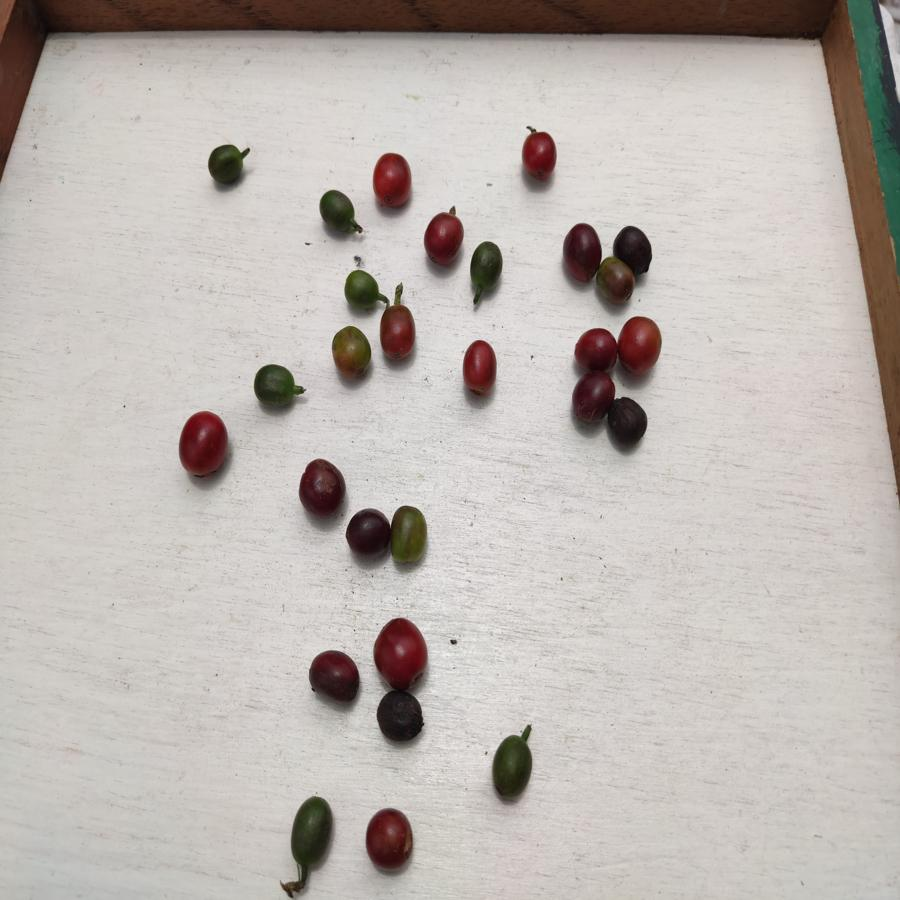Inmaduro: (288, 793, 335, 865), (489, 735, 534, 802), (253, 363, 297, 410), (469, 240, 505, 294), (342, 268, 382, 310), (208, 144, 246, 186), (318, 190, 353, 235)
Maduro: (373, 618, 426, 688), (362, 807, 416, 873), (177, 410, 228, 478), (617, 314, 663, 373), (379, 303, 418, 364), (372, 152, 413, 208), (423, 212, 463, 264), (519, 127, 557, 179), (573, 328, 620, 368), (464, 340, 498, 395)
Pinton: (389, 506, 429, 566), (332, 325, 372, 381), (600, 260, 632, 302)
Sobremaduro: (309, 648, 363, 706), (297, 458, 347, 518), (376, 691, 428, 741), (561, 224, 602, 284), (344, 507, 391, 557), (572, 373, 612, 424), (607, 395, 648, 444), (618, 222, 652, 273)
